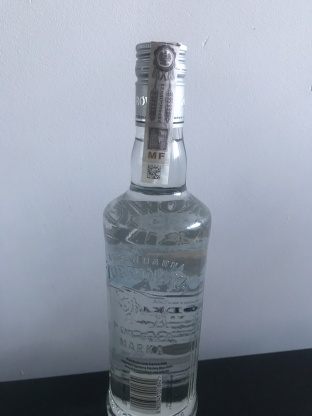nakretka: (132, 35, 189, 130)
